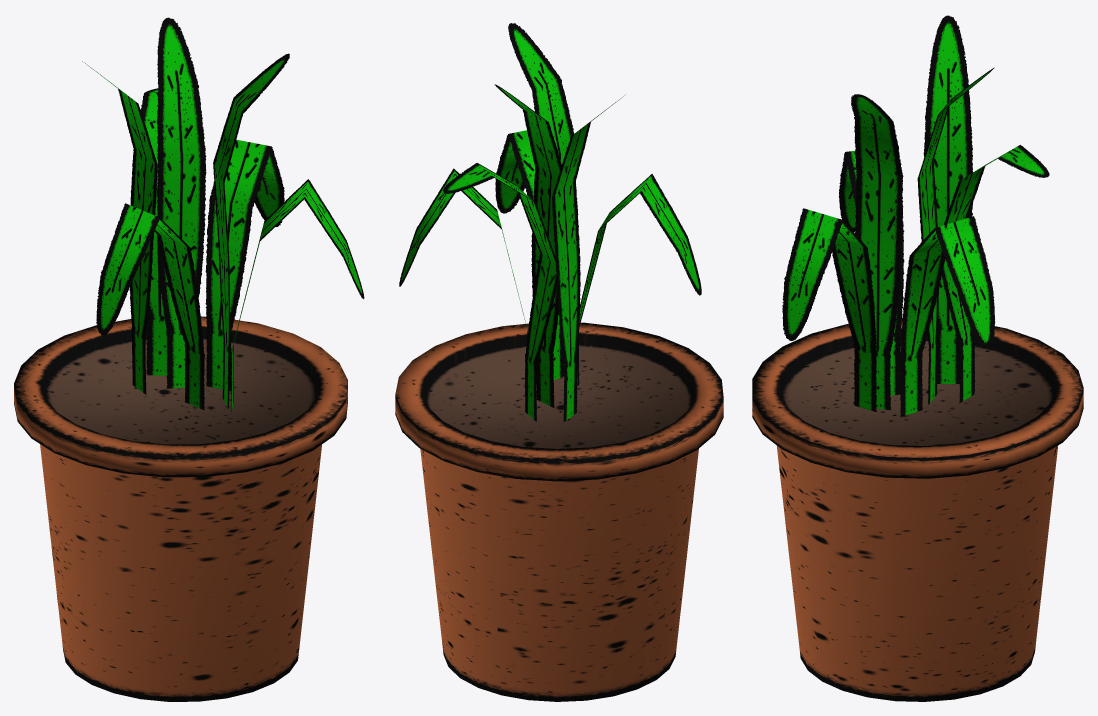
Rendered from interior_plant.obj.
3 views of the same model, side by side, from view 1: azimuth 30°, elevation 25°; view 2: azimuth 150°, elevation 25°; view 3: azimuth 270°, elevation 25° (orthographic).
Parts seen in each view (by area): view 1: interior_plant_Cylinder; view 2: interior_plant_Cylinder; view 3: interior_plant_Cylinder.
Boxes of the visible parts, box(x1,y1,x2,y2) form: interior_plant_Cylinder: box(14, 17, 364, 701); interior_plant_Cylinder: box(395, 23, 723, 701); interior_plant_Cylinder: box(752, 15, 1083, 701).
Size of the model in its own units: 2.82 by 5.61 by 2.82.
